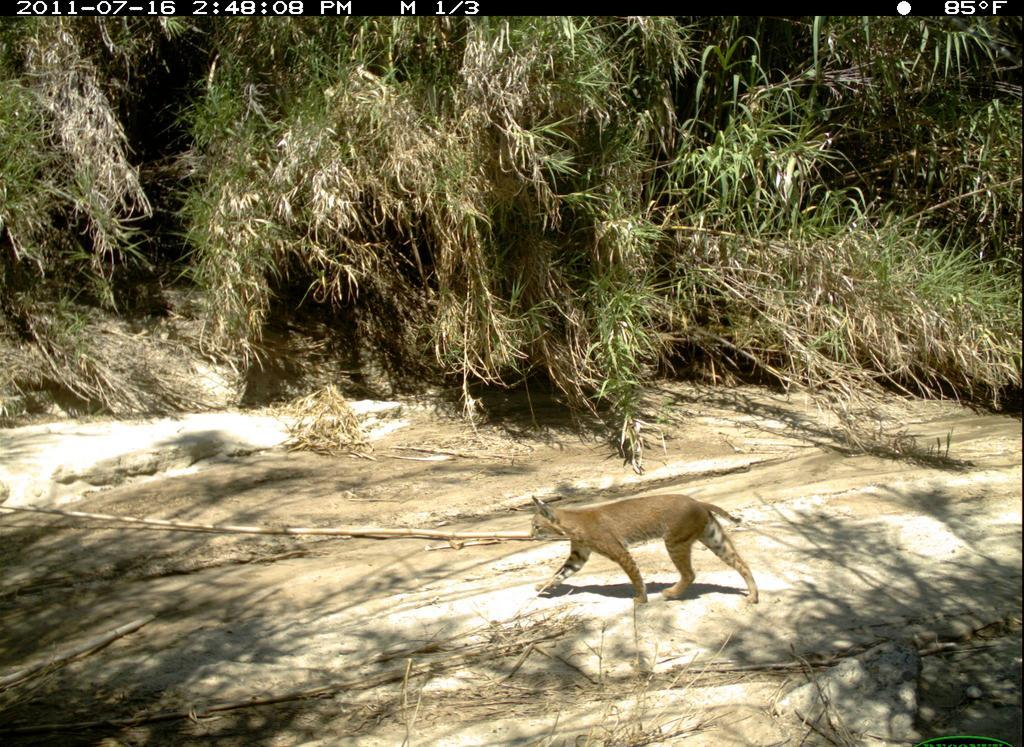bobcat: (525, 481, 771, 607)
